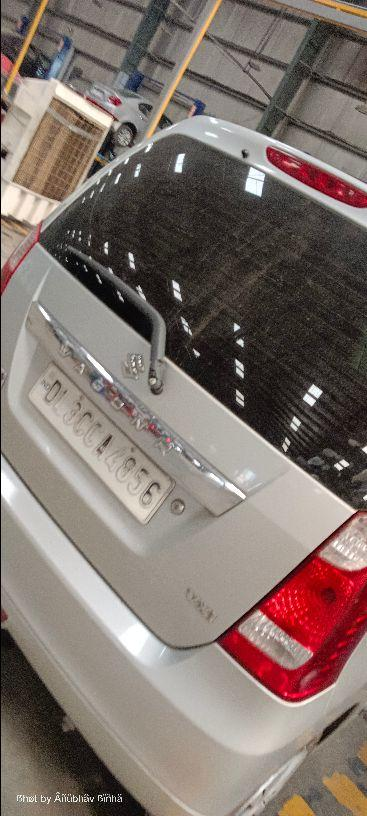license_plate: (1, 114, 365, 813), (27, 359, 176, 525)
